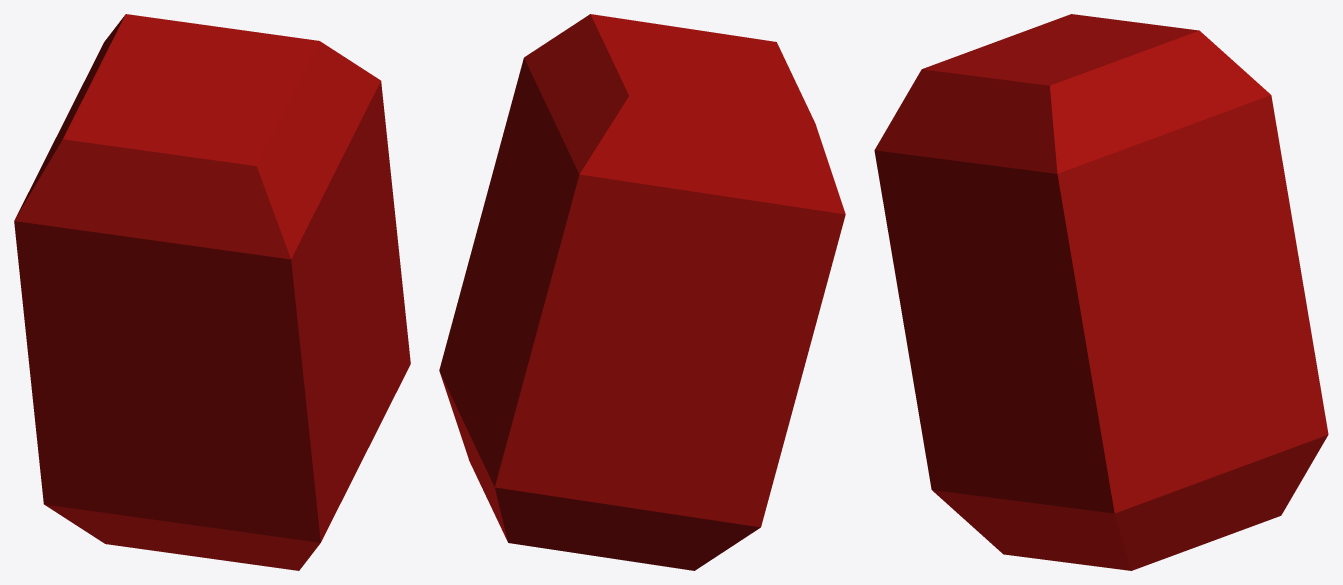
Rendered from town_jewel0013.obj.
3 renders of one model, left to right at view 1: azimuth 30°, elevation 25°; view 2: azimuth 150°, elevation 25°; view 3: azimuth 270°, elevation 25°, orthographic. The views are drawn at different scales.
Visible parts, largest first — view 1: RedJewel; view 2: RedJewel; view 3: RedJewel.
Part boxes in pixels (x1,y1,x2,y2): RedJewel: (14, 14, 410, 570); RedJewel: (439, 14, 845, 570); RedJewel: (874, 14, 1328, 570).
Size of the model in its own units: 1.04 by 1.21 by 1.02.
